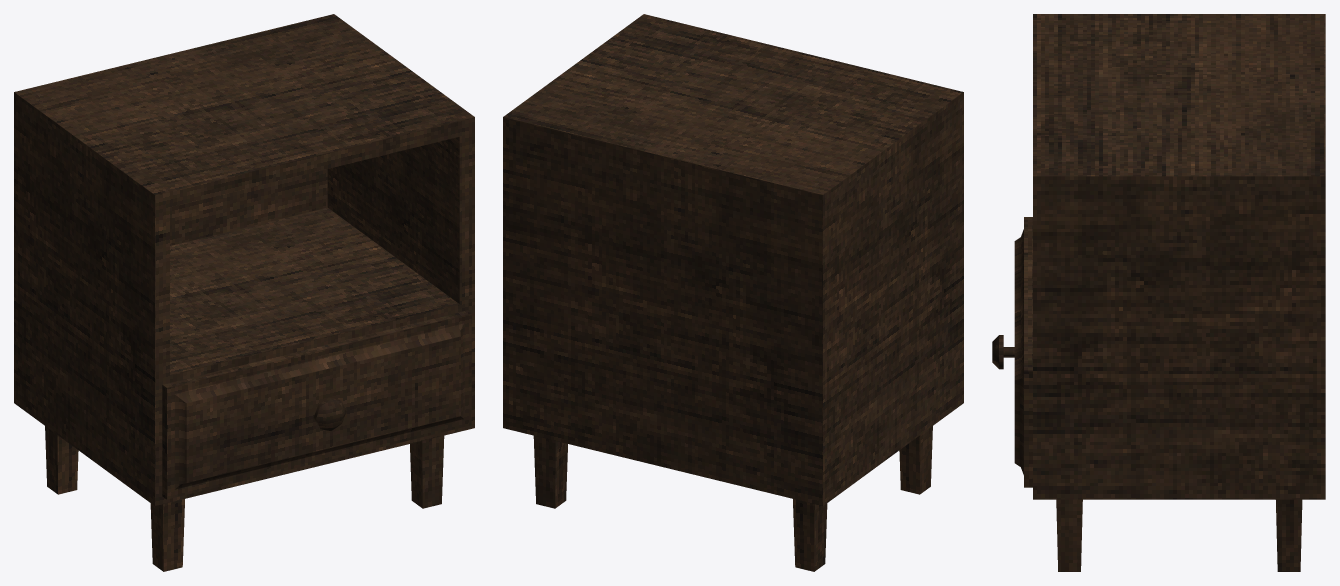
File: bedside_table_2_1.glb
3 views of the same model, side by side, from view 1: azimuth 30°, elevation 25°; view 2: azimuth 150°, elevation 25°; view 3: azimuth 270°, elevation 25° (orthographic). The views are drawn at different scales.
Parts seen in each view (by area): view 1: bedside_table_2_1, bedside_table_2_1_drawer; view 2: bedside_table_2_1; view 3: bedside_table_2_1, bedside_table_2_1_drawer.
Part boxes in pixels (x1=…): bedside_table_2_1: x1=14, y1=14, x2=474, y2=571; bedside_table_2_1_drawer: x1=162, y1=310, x2=471, y2=499; bedside_table_2_1: x1=503, y1=14, x2=963, y2=571; bedside_table_2_1: x1=1033, y1=14, x2=1325, y2=571; bedside_table_2_1_drawer: x1=992, y1=217, x2=1032, y2=487.
Bounding box in the file's own units: 0.504 × 0.588 × 0.4374.
Materials: 1 (1 with a texture image).
